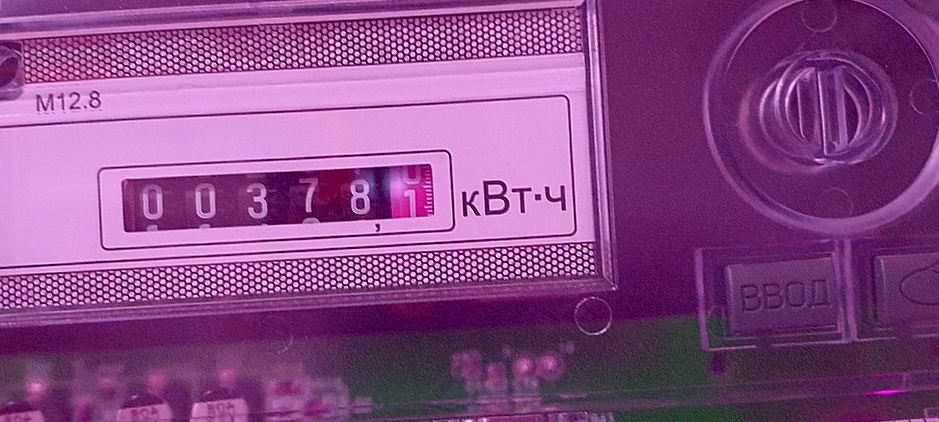0: (140, 179, 167, 220), (193, 179, 218, 219), (401, 162, 423, 185)
1: (401, 185, 420, 217)
3: (244, 179, 270, 220)
7: (296, 174, 320, 213)
8: (348, 175, 372, 215)
screen: (101, 145, 454, 242)
